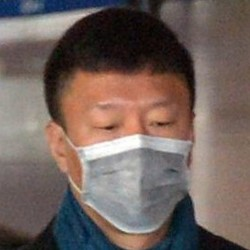mask: (65, 135, 194, 232)
